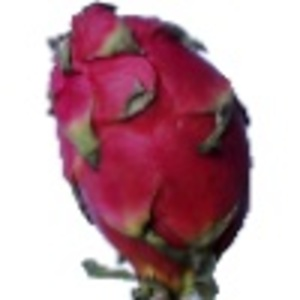pitaia: (46, 1, 255, 300)
